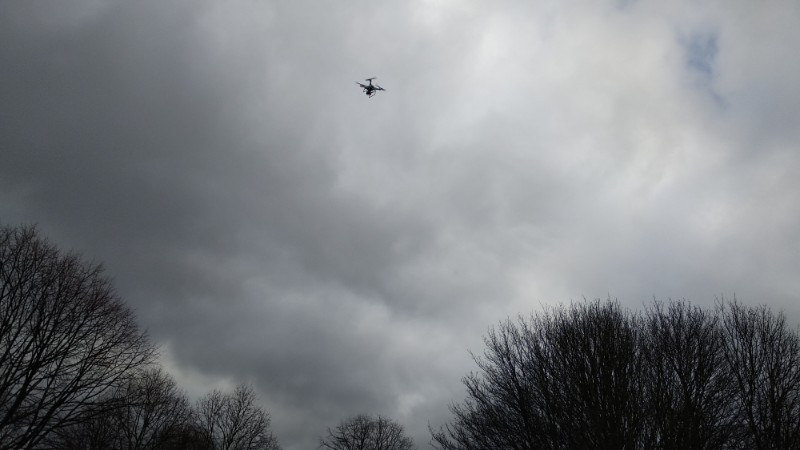drone: (356, 76, 387, 98)
